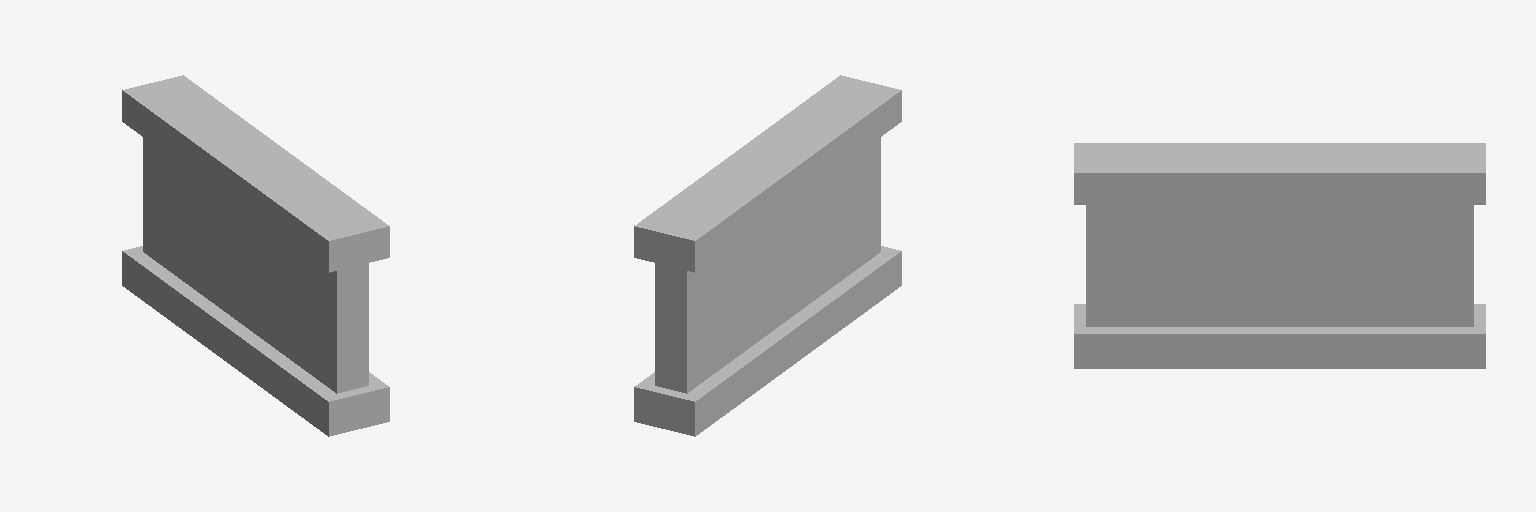
Rendered from FireplaceFake.obj.
3 views of the same model, side by side, from view 1: azimuth 30°, elevation 25°; view 2: azimuth 150°, elevation 25°; view 3: azimuth 270°, elevation 25° (orthographic).
Parts seen in each view (by area): view 1: FireplaceFake; view 2: FireplaceFake; view 3: FireplaceFake.
Part boxes in pixels (x1,y1,x2,y2): FireplaceFake: (122, 75, 389, 436); FireplaceFake: (634, 75, 901, 436); FireplaceFake: (1074, 143, 1485, 368).
Size of the model in its own units: 0.5572 by 1.7 by 3.25.